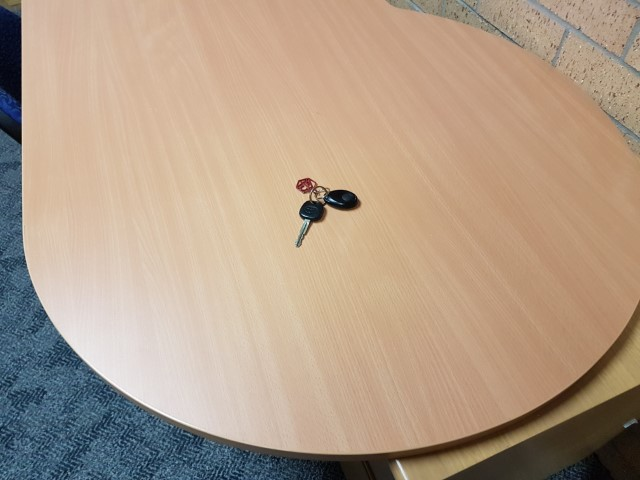key: (295, 199, 324, 250)
